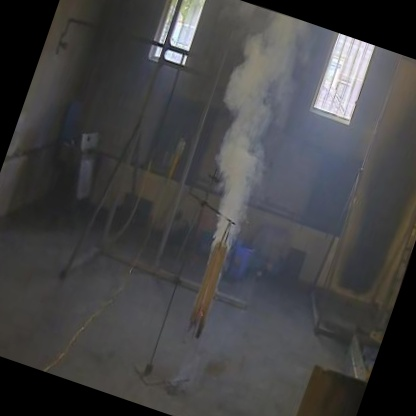smoke: (165, 2, 333, 270)
